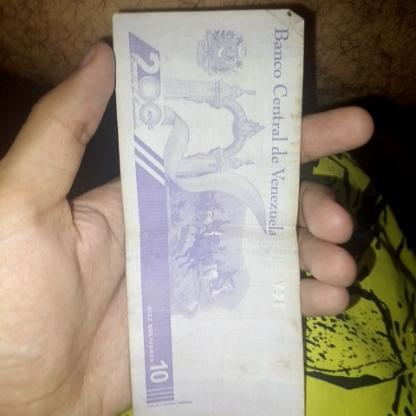ten-back-vef: (115, 15, 307, 416)
